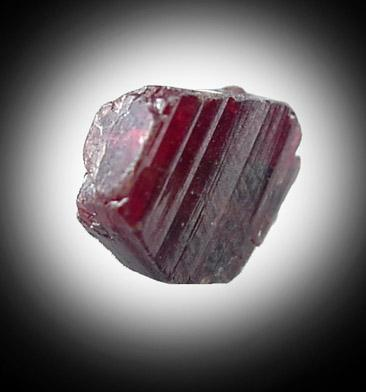tantalite: (77, 86, 302, 284)
